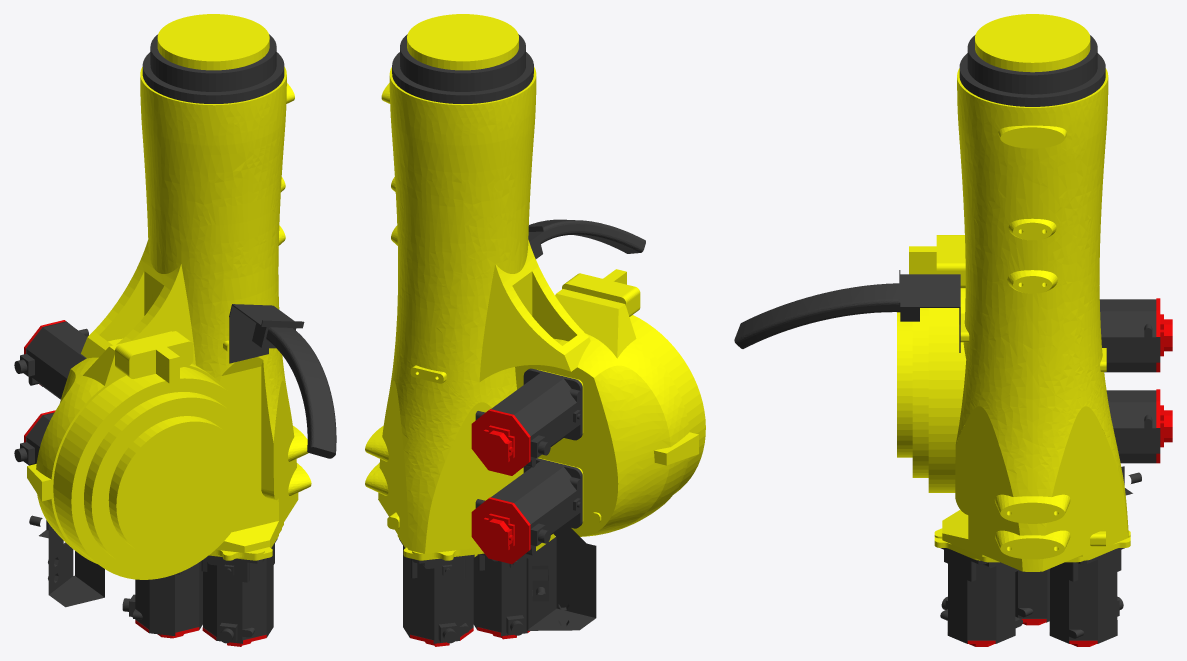
3 views of the same model, side by side, from view 1: azimuth 30°, elevation 25°; view 2: azimuth 150°, elevation 25°; view 3: azimuth 270°, elevation 25° (orthographic). The views are drawn at different scales.
Visible parts, largest first — view 1: node; view 2: node; view 3: node.
Boxes of the visible parts, x1,y1,x2,y2 form: node: (14, 14, 336, 646); node: (365, 14, 705, 646); node: (734, 14, 1172, 646).
Size of the model in its own units: 869 by 1695 by 1117.
